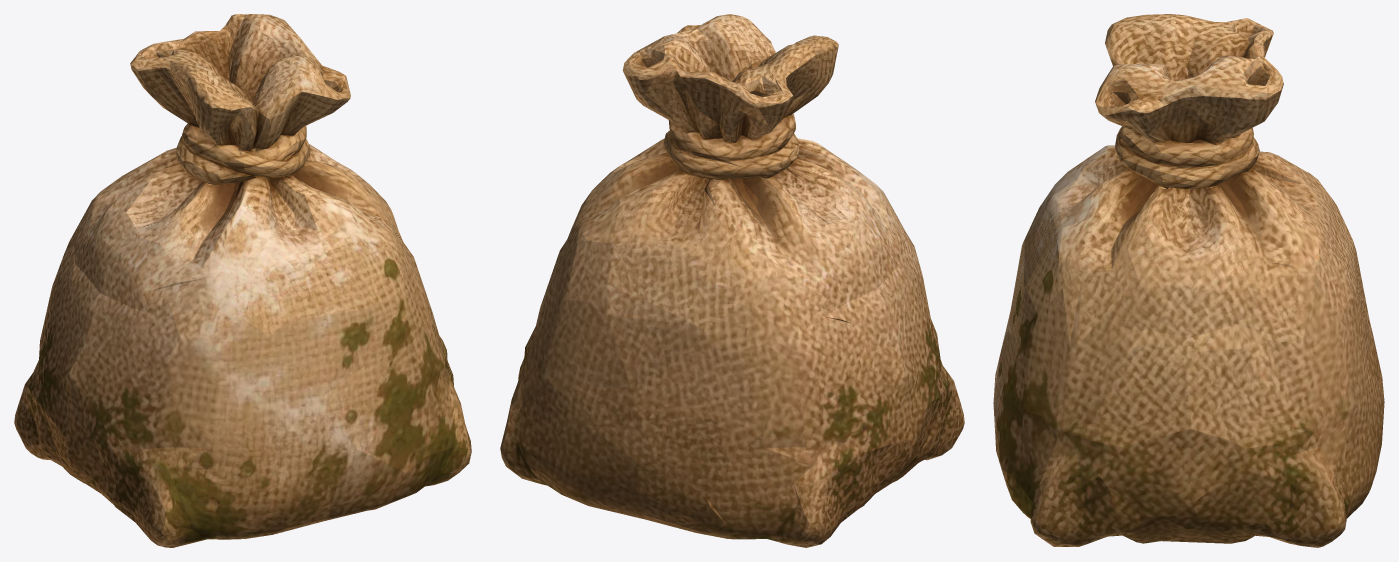
Rendered from flour-sack.hq.glb.
The picture shows the model from 3 angles, left to right: view 1: azimuth 30°, elevation 25°; view 2: azimuth 150°, elevation 25°; view 3: azimuth 270°, elevation 25°; orthographic projection. The views are drawn at different scales.
Parts seen in each view (by area): view 1: output_unwrapped; view 2: output_unwrapped; view 3: output_unwrapped.
Boxes of the visible parts, bbox=[...] form: output_unwrapped: bbox=[14, 14, 471, 547]; output_unwrapped: bbox=[500, 14, 964, 547]; output_unwrapped: bbox=[993, 14, 1384, 547].
Bounding box in the file's own units: 1.64 × 1.9 × 1.53.
Materials: 1 (1 with a texture image).
